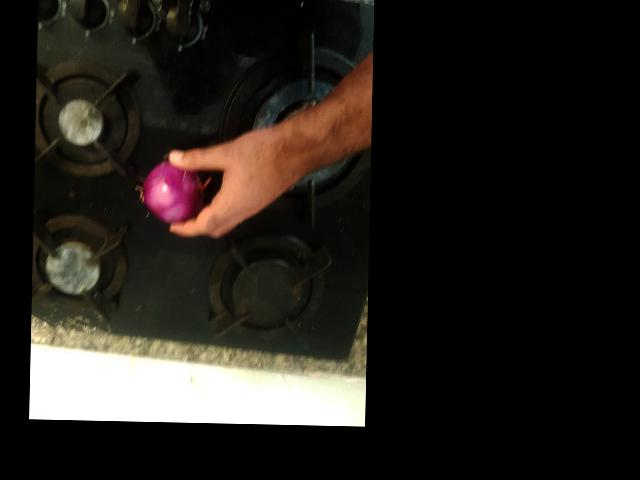onion: (144, 155, 211, 224)
